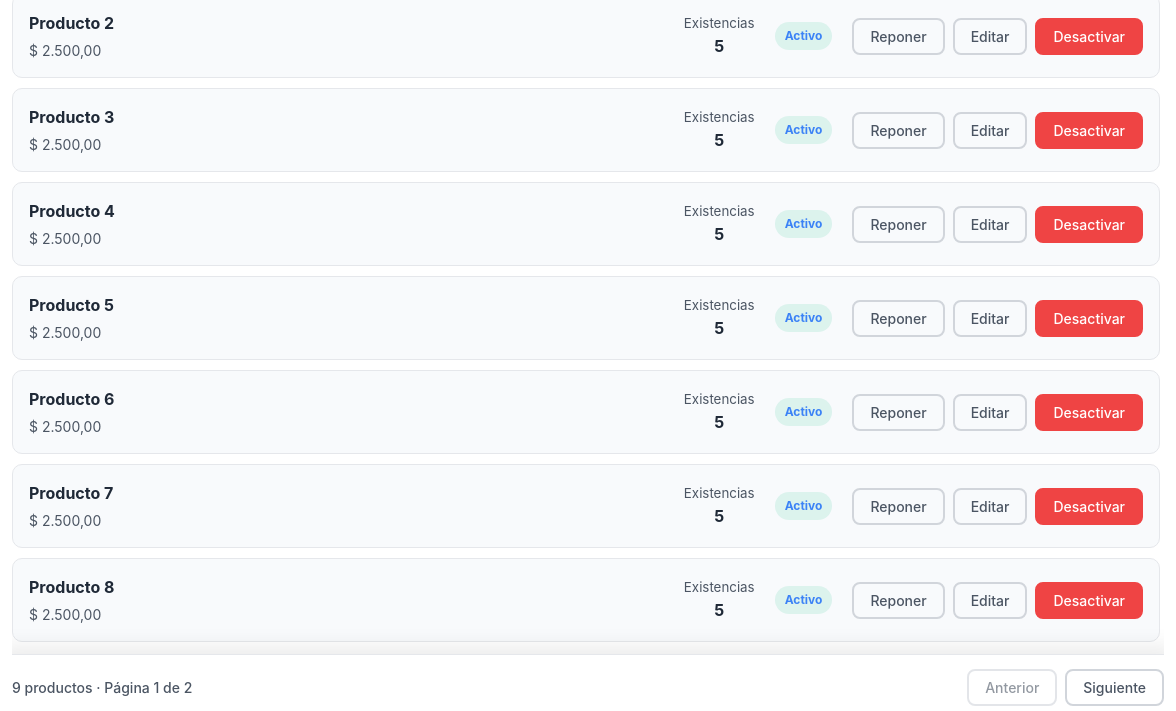
Test case: pagina, busca sólo por nombre y descarta respuestas antiguas
(page scrolled)
Expected: the text "9 productos · Página 1 de 2" is shown, [12,677,192,698]
Click the button "Siguiente" at (1115, 688), box [1065,669,1164,706]
(page scrolled)
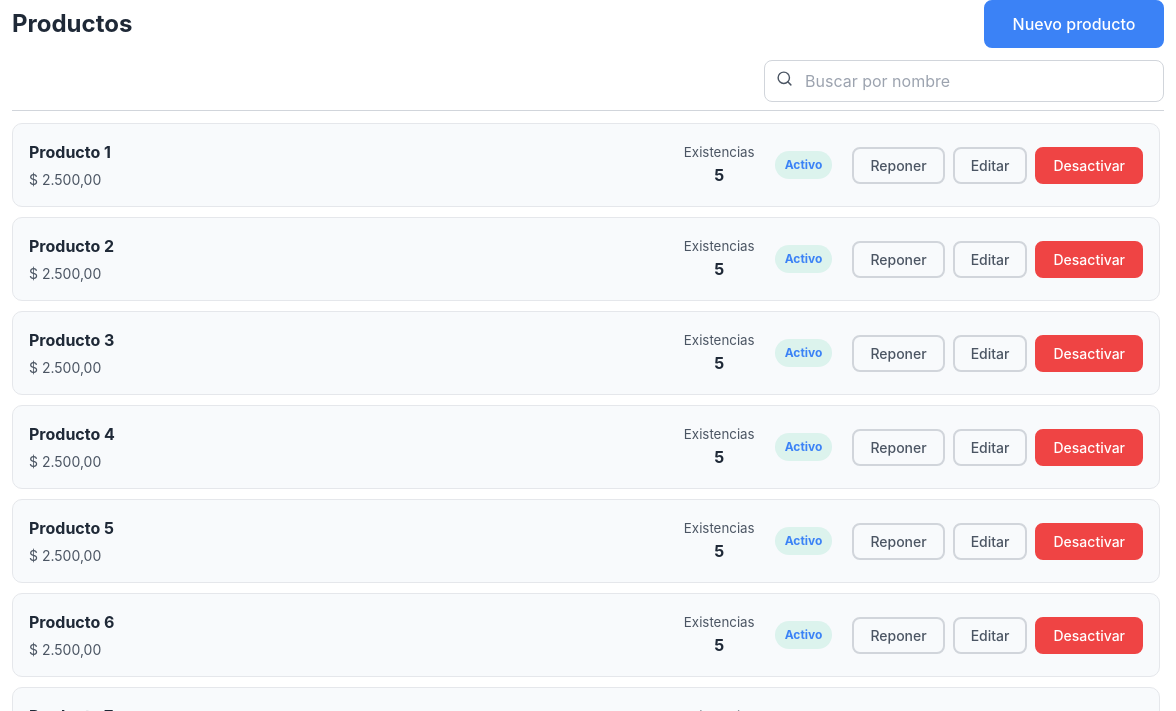
Type "Pro" into the field named "Buscar productos" at (964, 81), box [764,60,1164,102]
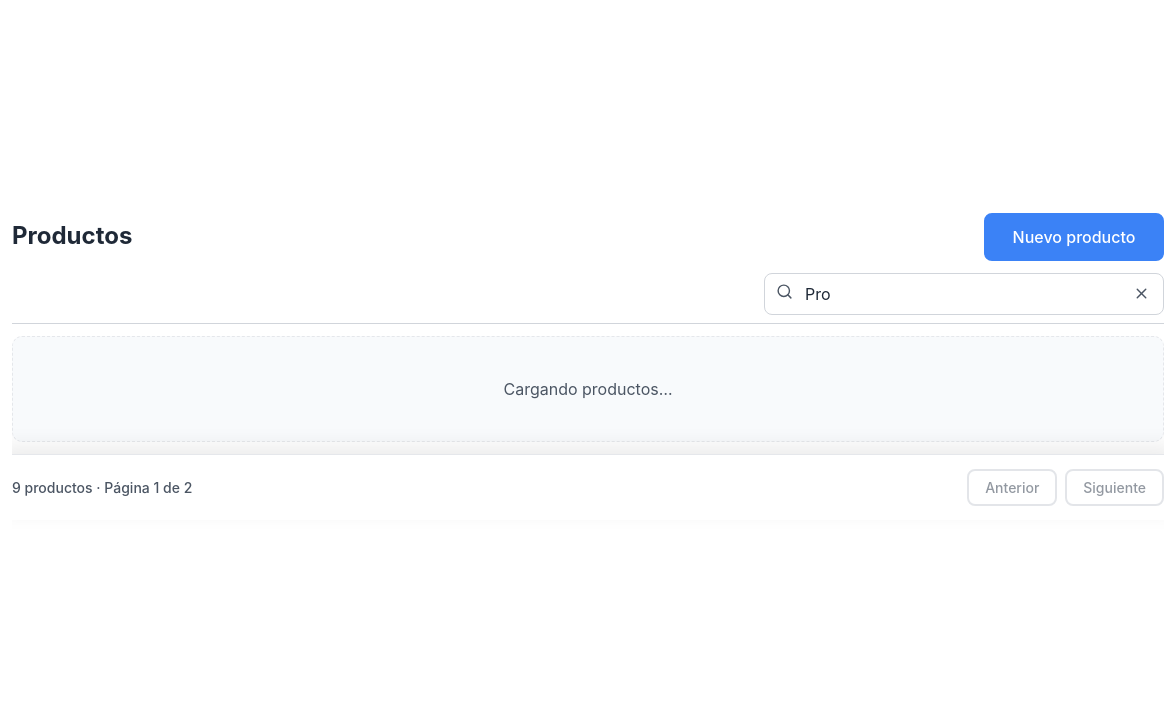
Replace the text in the field named "Buscar productos" with "Prote" at (964, 294), box [764,272,1164,314]
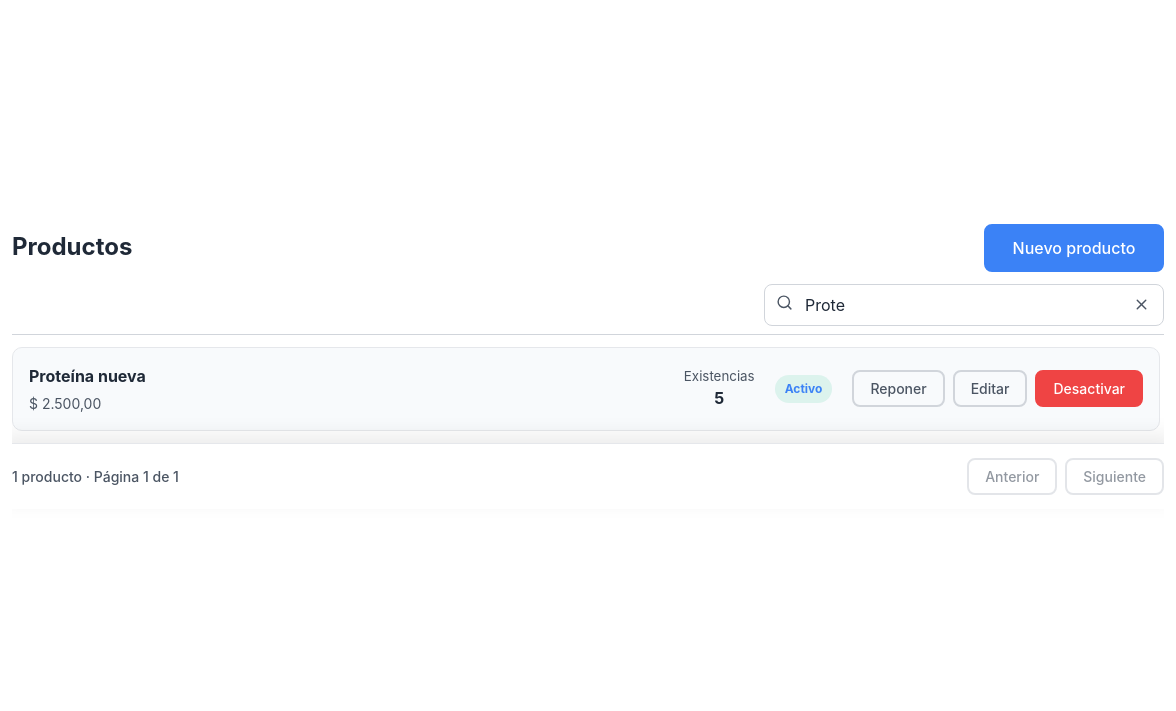
Expected: the text "Proteína nueva" is shown, [29,366,146,386]
